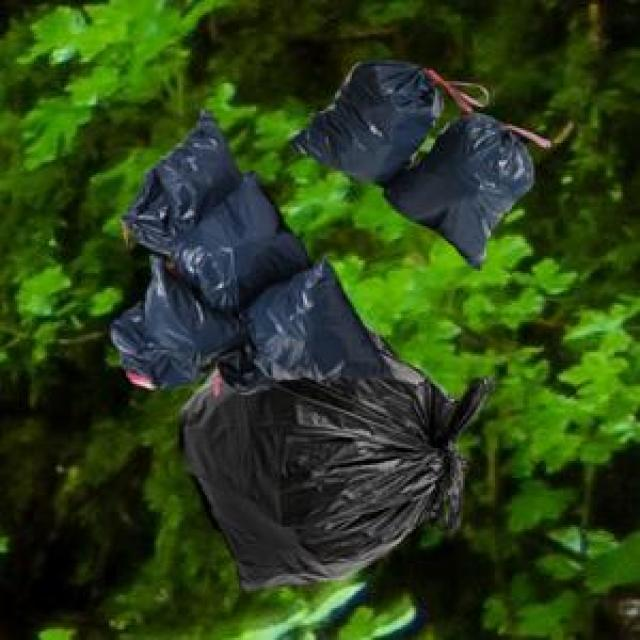miscellaneous trash: (175, 322, 491, 587), (107, 105, 388, 390), (284, 56, 545, 267)
